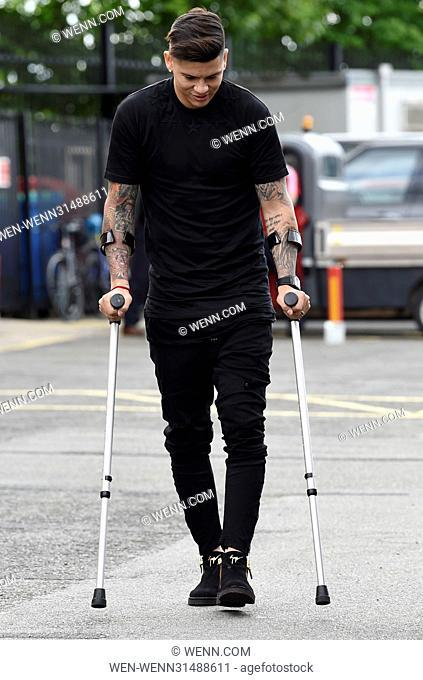crutches: (91, 8, 331, 609)
